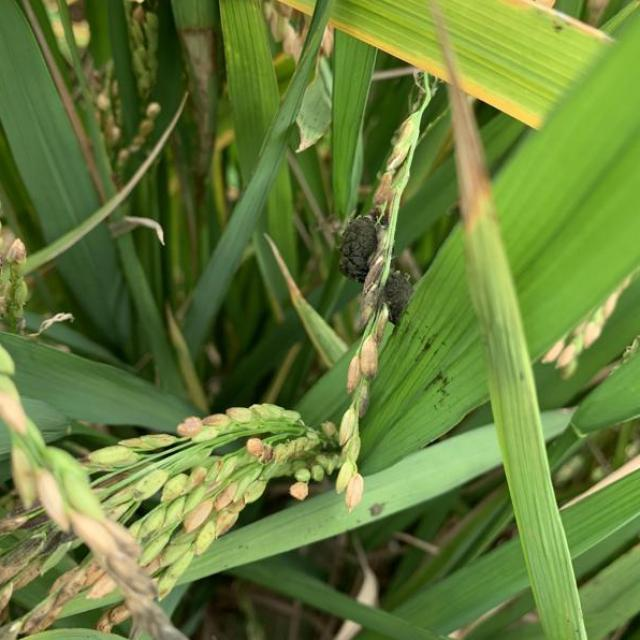Leaf_Scald: (335, 216, 418, 320)
